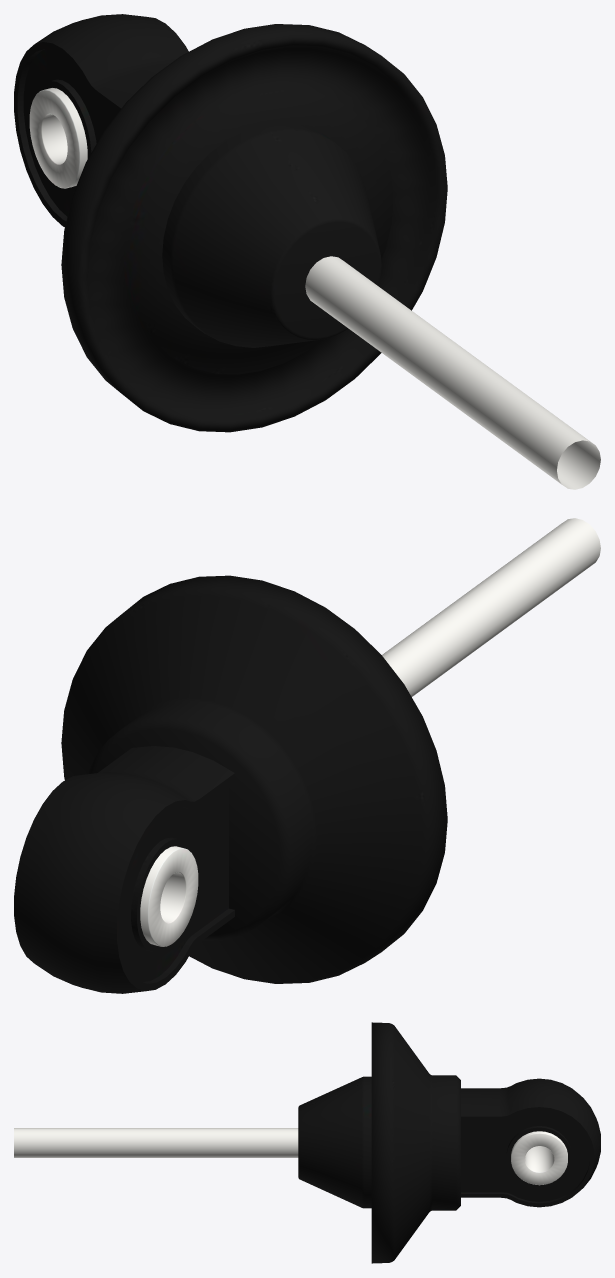
File: coilover_rod.gltf
The picture shows the model from 3 angles, top to bottom: view 1: azimuth 30°, elevation 25°; view 2: azimuth 150°, elevation 25°; view 3: azimuth 270°, elevation 25°; orthographic projection. The views are drawn at different scales.
Parts seen in each view (by area): view 1: coilover_rod; view 2: coilover_rod; view 3: coilover_rod.
Boxes of the visible parts, bbox=[...] form: coilover_rod: bbox=[14, 14, 600, 489]; coilover_rod: bbox=[14, 518, 600, 993]; coilover_rod: bbox=[14, 1022, 600, 1263].
Size of the model in its own units: 0.1201 by 0.1201 by 0.2913.
Materials: 1 (1 with a texture image).
